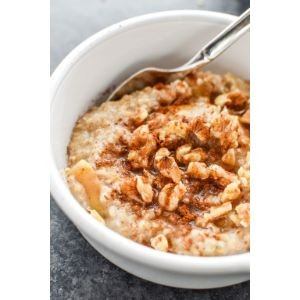oat_brain food: (111, 79, 245, 219)
